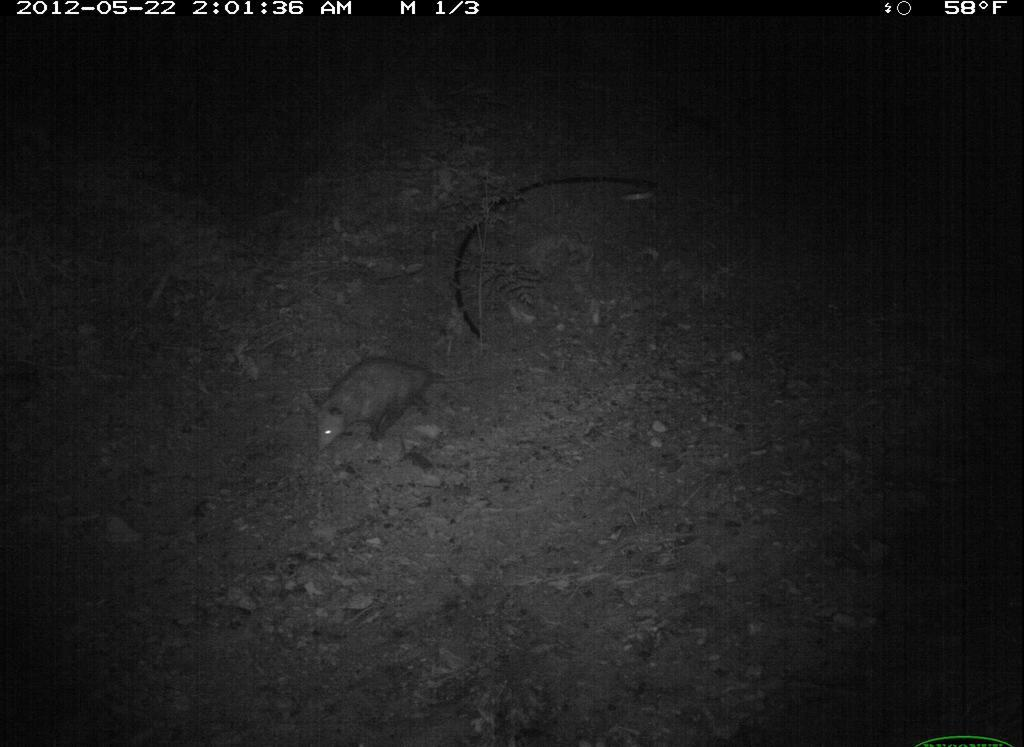opossum: (305, 342, 483, 460)
